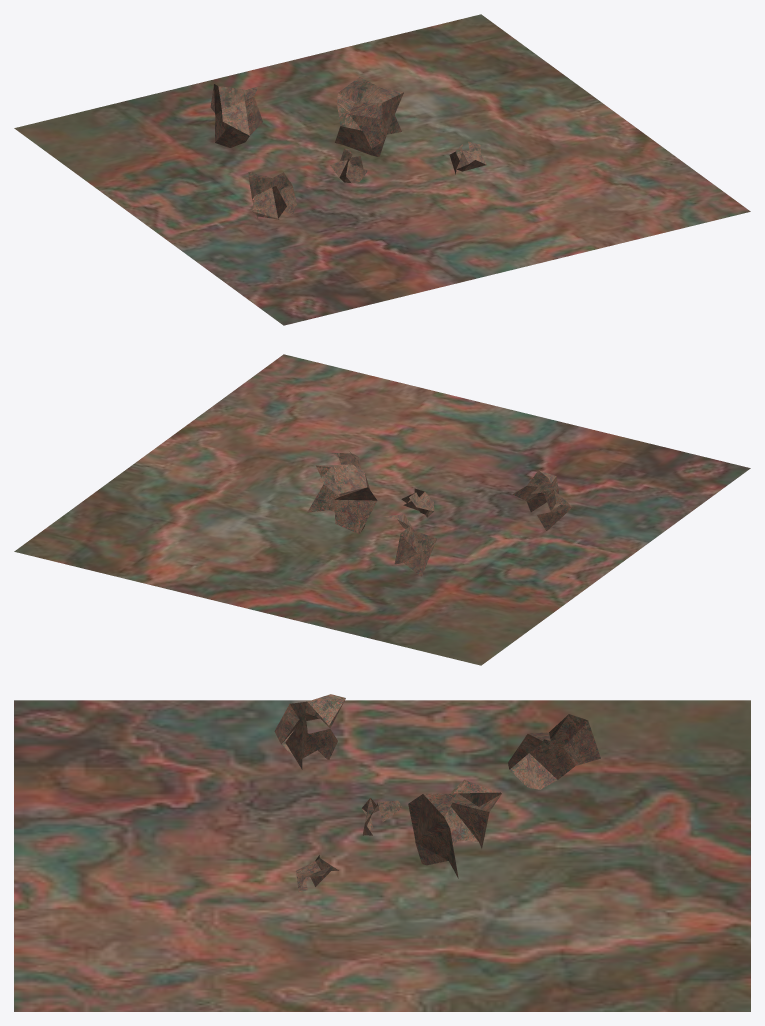
File: cave_floor_decor_016.glb
The picture shows the model from 3 angles, top to bottom: view 1: azimuth 30°, elevation 25°; view 2: azimuth 150°, elevation 25°; view 3: azimuth 270°, elevation 25°; orthographic projection. The views are drawn at different scales.
Visible parts, largest first — view 1: cave_floor_decor.016-col; view 2: cave_floor_decor.016-col; view 3: cave_floor_decor.016-col.
Part boxes in pixels (x1,y1,x2,y2): cave_floor_decor.016-col: (14, 14, 750, 325); cave_floor_decor.016-col: (14, 354, 750, 665); cave_floor_decor.016-col: (14, 694, 750, 1011).
Bounding box in the file's own units: 2 × 0.2528 × 2.
Materials: 1 (1 with a texture image).
